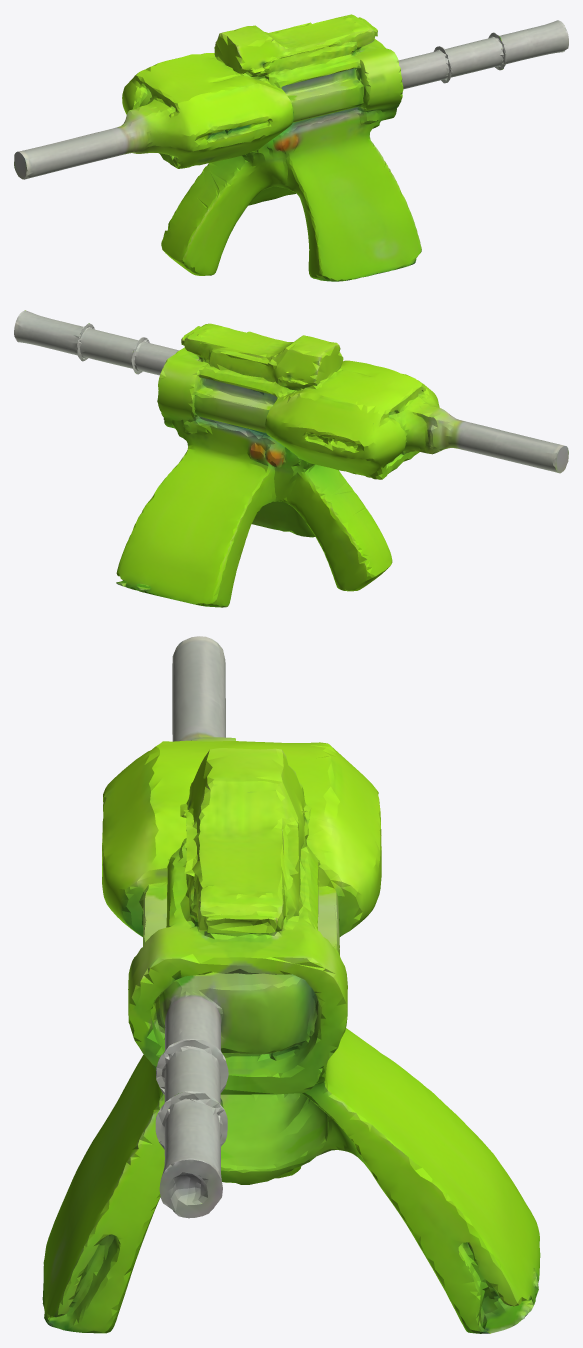
File: mantis_weapon_secondary.glb
3 views of the same model, one above another, from view 1: azimuth 30°, elevation 25°; view 2: azimuth 150°, elevation 25°; view 3: azimuth 270°, elevation 25° (orthographic). The views are drawn at different scales.
Parts seen in each view (by area): view 1: mantis_weapon_secondary; view 2: mantis_weapon_secondary; view 3: mantis_weapon_secondary.
Boxes of the visible parts, box(x1,y1,x2,y2) form: mantis_weapon_secondary: box(14, 14, 568, 281); mantis_weapon_secondary: box(14, 310, 568, 607); mantis_weapon_secondary: box(42, 636, 540, 1333).
Bounding box in the file's own units: 1.89 × 0.753 × 0.7544.
Materials: 1 (1 with a texture image).
